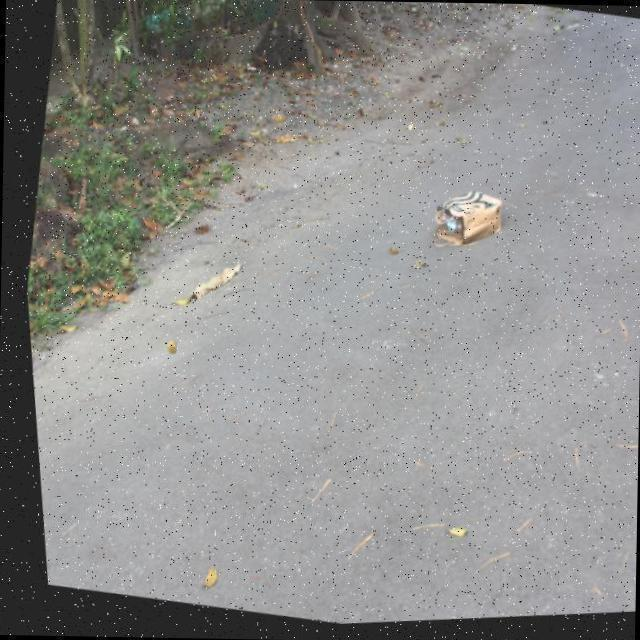Paper_Bag: (421, 188, 503, 264)
